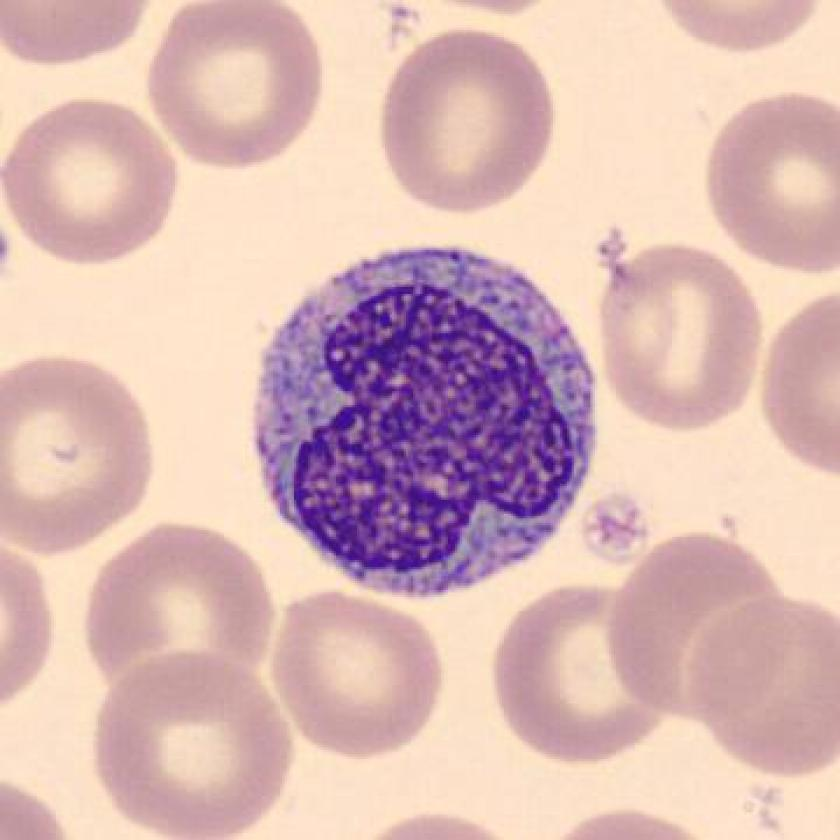monocyte: (239, 219, 612, 617)
